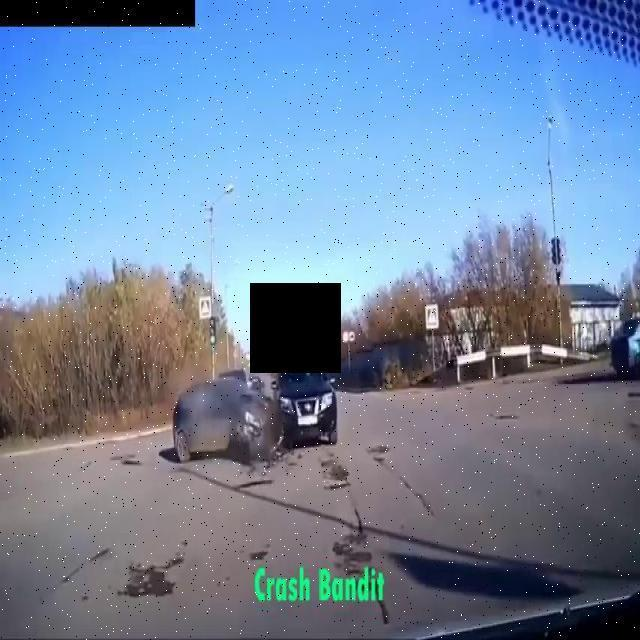multiple_accident: (156, 333, 350, 478)
